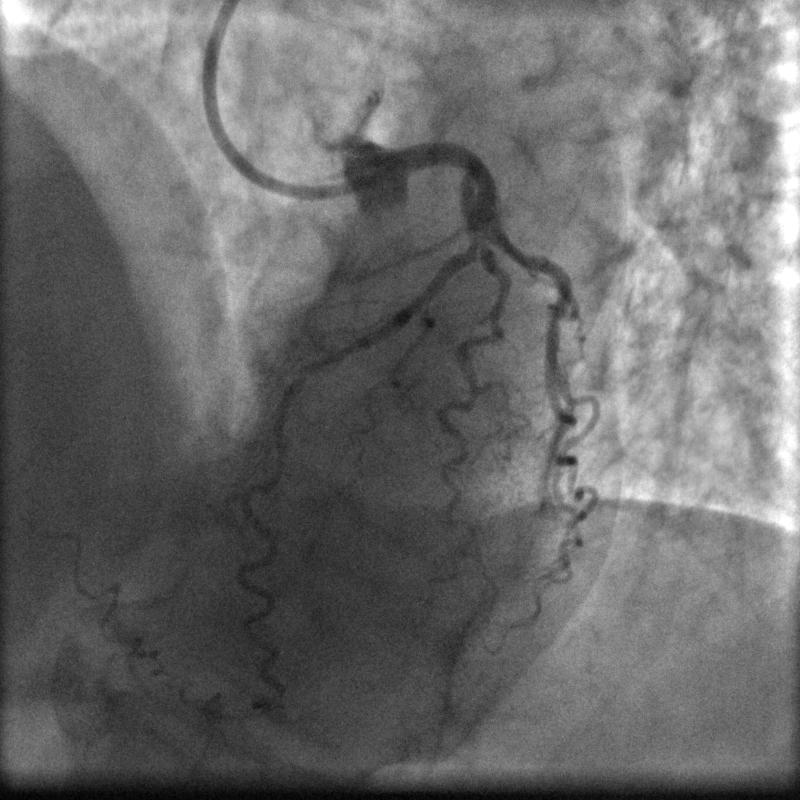Stenosis: (462, 221, 496, 258)
